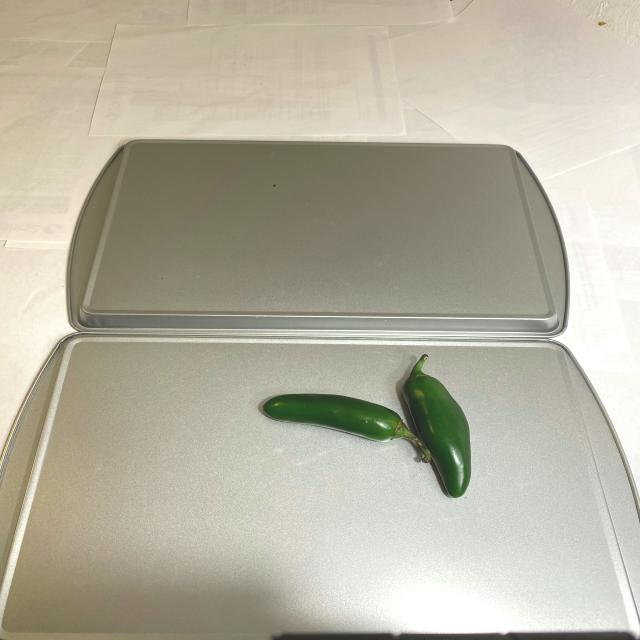chilli: (260, 353, 468, 497)
